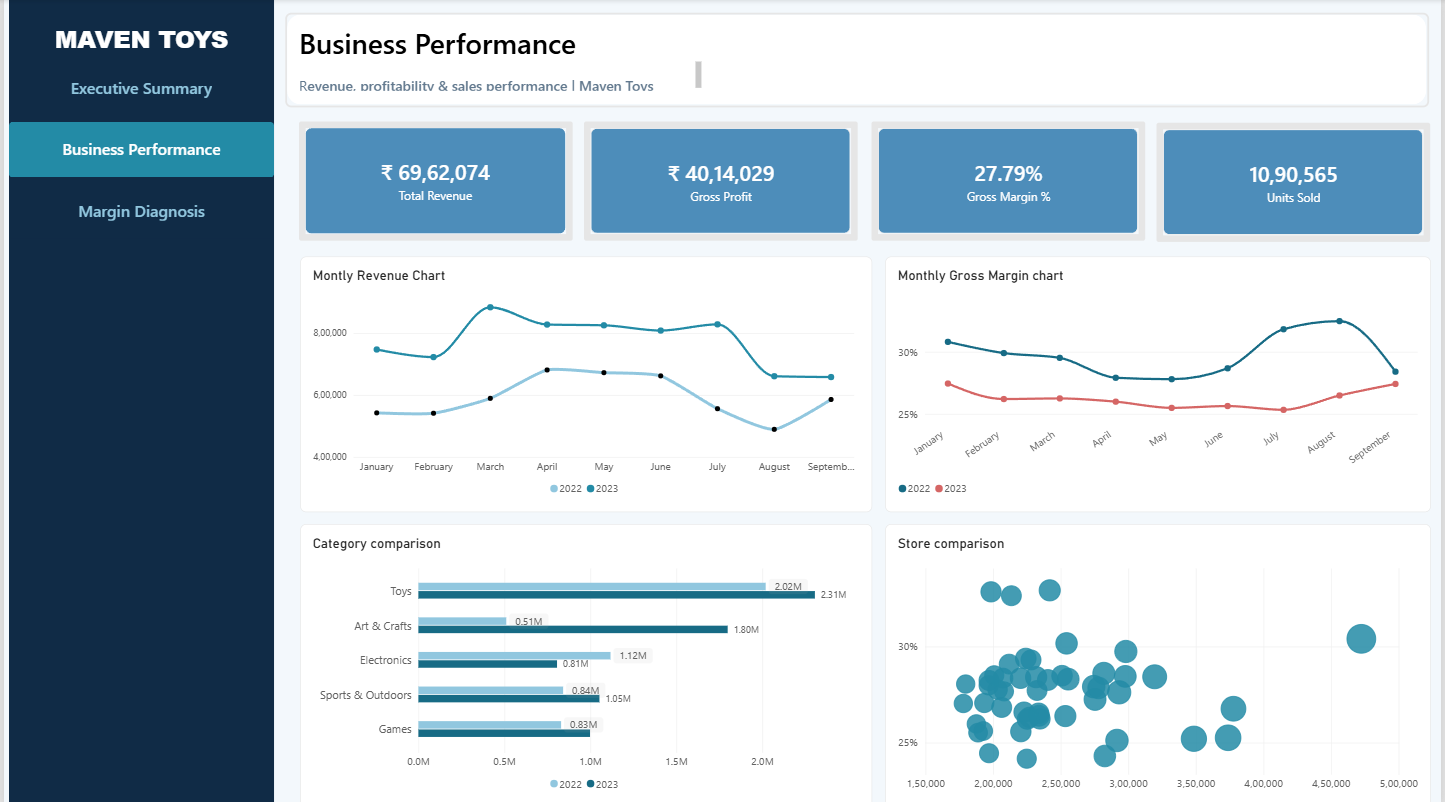

This screenshot's page, from the dashboard's own definition file:
{"tool":"powerbi","page":{"name":"Business Performance","canvas":[1920,1080],"ordinal":1},"visuals":[{"type":"shape","box":[376.2,18.6,1527.7,126.1],"z":0},{"type":"shape","box":[6.2,0,354,1080.6],"z":1000},{"type":"textbox","box":[394.8,33.1,782.2,65.9],"z":2000},{"type":"textbox","box":[394.8,82.7,537.2,39.1],"z":3000},{"type":"cardVisual","fields":{"Data":["Measures (2).Total Revenue"]},"box":[394.5,164,365.9,159.2],"z":4000},{"type":"cardVisual","fields":{"Data":["Measures (2).Gross Profit"]},"box":[774.4,164,365.9,159.2],"z":5000},{"type":"cardVisual","fields":{"Data":["Measures (2).Gross Margin %"]},"box":[1158.5,164,365.9,159.2],"z":6000},{"type":"cardVisual","fields":{"Data":["Measures (2).Units Sold"]},"box":[1540.1,164.7,365.9,159.2],"z":7000},{"type":"lineChart","title":"Montly Revenue Chart","fields":{"Category":["Dim_Date.Month"],"Series":["Dim_Date.Year"],"Y":["Measures (2).Total Revenue"]},"box":[395.2,343.7,763.6,341.7],"z":8000},{"type":"lineChart","title":"Monthly Gross Margin chart","fields":{"Category":["Dim_Date.Month"],"Series":["Dim_Date.Year"],"Y":["Measures (2).Gross Margin %"]},"box":[1177.4,343.7,728.6,341.7],"z":9000},{"type":"clusteredBarChart","title":"Category comparison","fields":{"Category":["Dimension_Product.Product_Category"],"Series":["Dim_Date.Year"],"Y":["Measures (2).Total Revenue"]},"box":[395.2,701.9,763.6,378.7],"z":10000},{"type":"scatterChart","title":"Store comparison","fields":{"Category":["Dimension_Store.Store_Name"],"Size":["Measures (2).Units Sold"],"X":["Measures (2).Total Revenue"],"Y":["Measures (2).Gross Margin %"]},"box":[1177,702,729,378],"z":11000},{"type":"pageNavigator","box":[6.2,82.3,354,240.8],"z":12000},{"type":"textbox","title":"MAVEN TOYS","box":[6.2,30.9,354,51.5],"z":13000}]}

Visuals, with their boxes in screenshot pixels (x1, y1, x2, y2), scaled from the page's 1920x1080 canvas onto the 1445x802 screenshot:
shape: <region>283, 14, 1433, 107</region>
shape: <region>5, 0, 271, 801</region>
textbox: <region>297, 25, 886, 74</region>
textbox: <region>297, 61, 701, 90</region>
cardVisual - Measures (2).Total Revenue: <region>297, 122, 572, 240</region>
cardVisual - Measures (2).Gross Profit: <region>583, 122, 858, 240</region>
cardVisual - Measures (2).Gross Margin %: <region>872, 122, 1147, 240</region>
cardVisual - Measures (2).Units Sold: <region>1159, 122, 1434, 241</region>
"Montly Revenue Chart" lineChart: <region>297, 255, 872, 509</region>
"Monthly Gross Margin chart" lineChart: <region>886, 255, 1434, 509</region>
"Category comparison" clusteredBarChart: <region>297, 521, 872, 801</region>
"Store comparison" scatterChart: <region>886, 521, 1434, 801</region>
pageNavigator: <region>5, 61, 271, 240</region>
"MAVEN TOYS" textbox: <region>5, 23, 271, 61</region>
